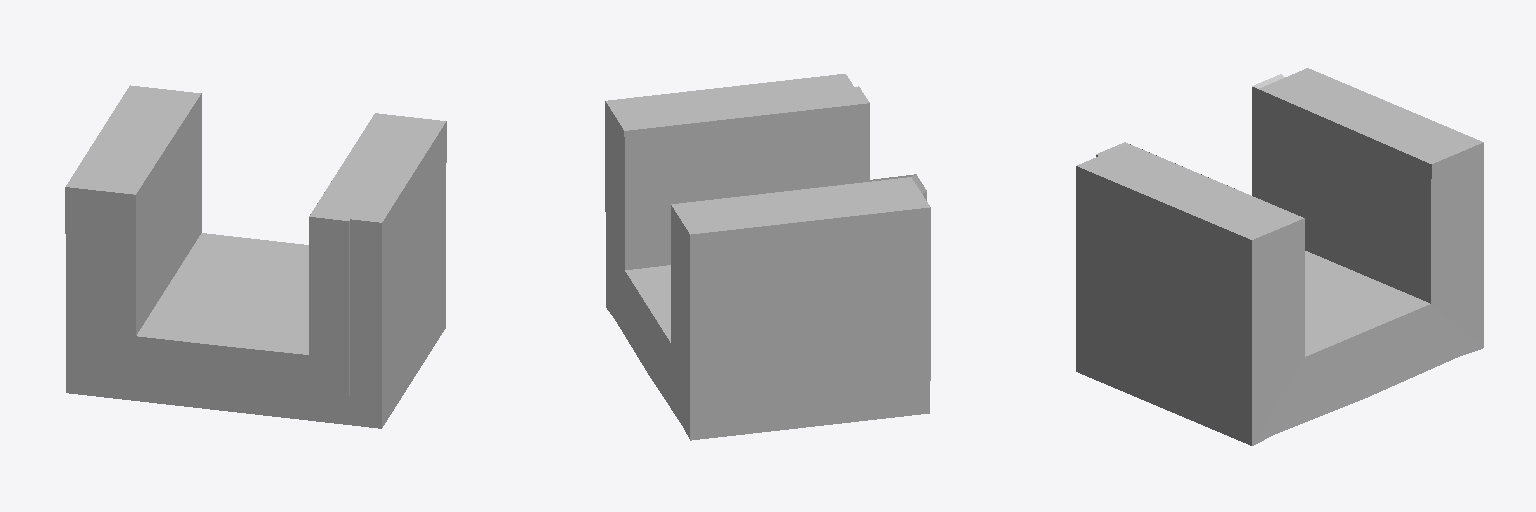
File: sandstone_diagonal_rectangle_window.obj
3 views of the same model, side by side, from view 1: azimuth 30°, elevation 25°; view 2: azimuth 150°, elevation 25°; view 3: azimuth 270°, elevation 25° (orthographic).
Visible parts, largest first — view 1: sandstone_diagonal_rectangle_window; view 2: sandstone_diagonal_rectangle_window; view 3: sandstone_diagonal_rectangle_window.
Part boxes in pixels (left/top/right/bottom): sandstone_diagonal_rectangle_window: left=65, top=85, right=446, bottom=428; sandstone_diagonal_rectangle_window: left=605, top=74, right=930, bottom=440; sandstone_diagonal_rectangle_window: left=1076, top=68, right=1483, bottom=445.
Size of the model in its own units: 1.8 by 1.01 by 1.8.